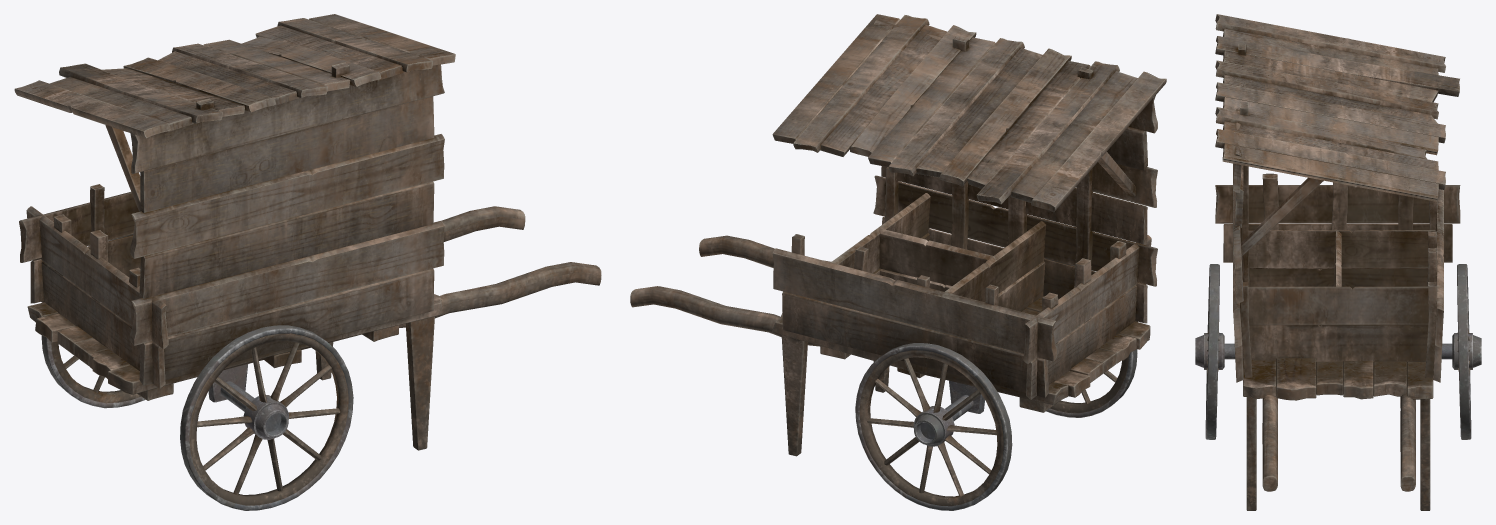
Rendered from SM_Market_Cart_01.fbx.
3 renders of one model, left to right at view 1: azimuth 30°, elevation 25°; view 2: azimuth 150°, elevation 25°; view 3: azimuth 270°, elevation 25°, orthographic. The views are drawn at different scales.
Visible parts, largest first — view 1: SM_Market_Cart_01_LOD0; view 2: SM_Market_Cart_01_LOD0; view 3: SM_Market_Cart_01_LOD0.
Part boxes in pixels (x1,y1,x2,y2): SM_Market_Cart_01_LOD0: (14,14,601,510); SM_Market_Cart_01_LOD0: (630,14,1166,510); SM_Market_Cart_01_LOD0: (1195,14,1481,510).
Size of the model in its own units: 254 by 142 by 202.
